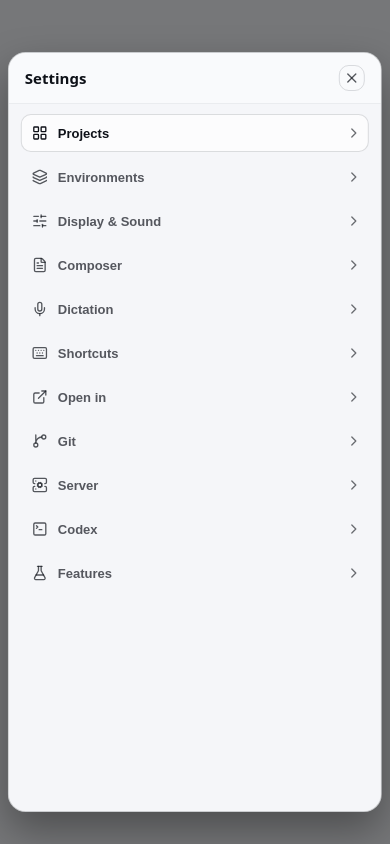
Test case: SettingsView mobile layout › uses a master/detail flow on narrow mobile widths
This screenshot has width=390, height=844.
Check: the text "Sections" is not shown
Check: the 1st element with class "ds-panel-nav-item-disclosure" is shown, box left=346, top=125, right=362, bottom=141
Step 1. Click the button "Display & Sound" → (109, 221), box left=21, top=202, right=369, bottom=240
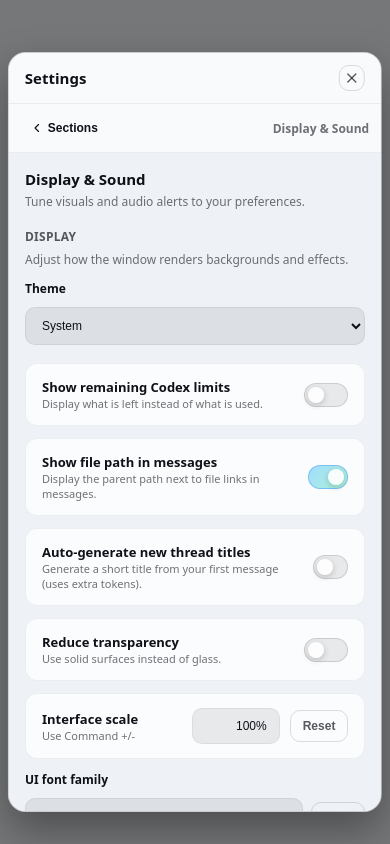
Check: the button with aria-label "Back to settings sections" is shown
Check: the 1st text "Display & Sound" is shown, box left=273, top=120, right=369, bottom=136
Step 2. Click the button with aria-label "Back to settings sections" → (64, 128), box left=21, top=114, right=107, bottom=142
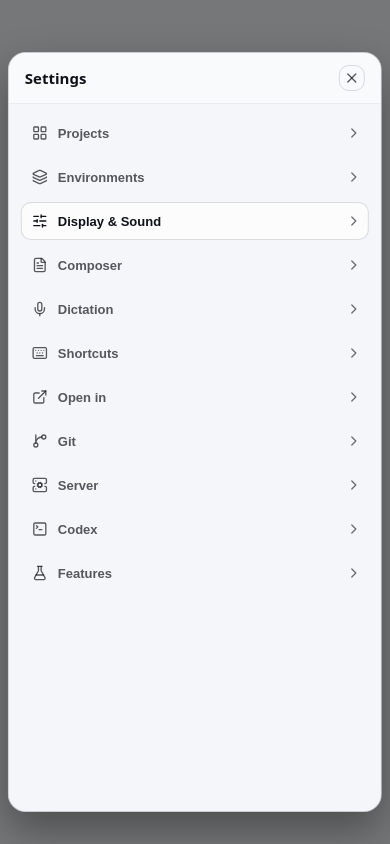
Check: the button "Sections" is gone
